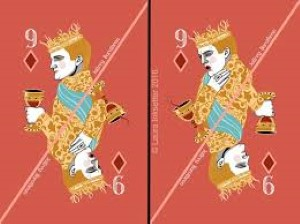Copy of NineOfDiamonds: (168, 17, 282, 205)
NineOfDiamonds: (16, 18, 131, 206)
